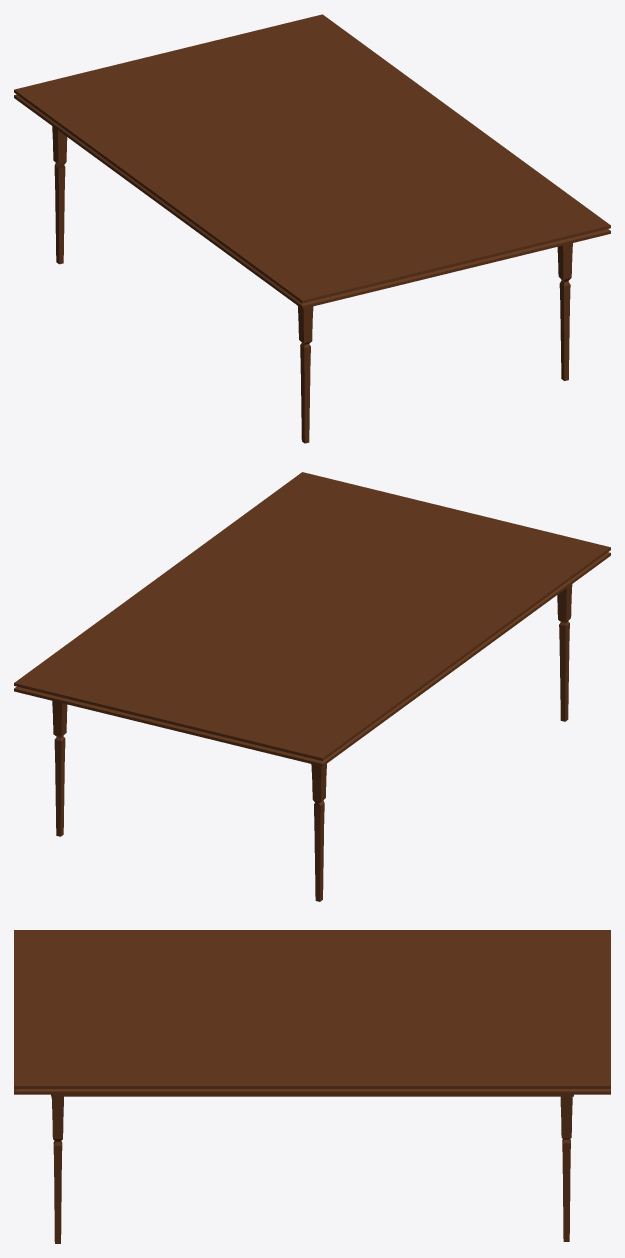
The model's file is Table (2).fbx.
The picture shows the model from 3 angles, top to bottom: view 1: azimuth 30°, elevation 25°; view 2: azimuth 150°, elevation 25°; view 3: azimuth 270°, elevation 25°; orthographic projection. The views are drawn at different scales.
Parts seen in each view (by area): view 1: Table; view 2: Table; view 3: Table.
Part boxes in pixels (x1,y1,x2,y2): Table: (14,14,610,443); Table: (14,472,610,901); Table: (14,930,610,1243).
Size of the model in its own units: 314 by 159 by 509.
